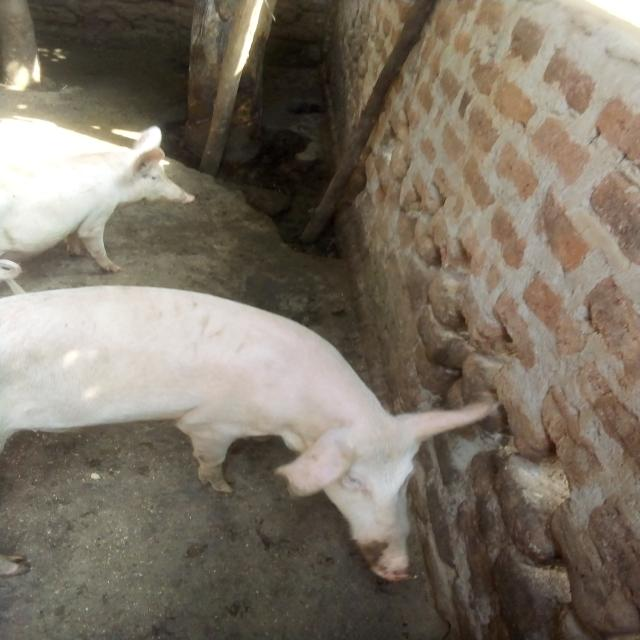pig: (0, 249, 553, 623)
